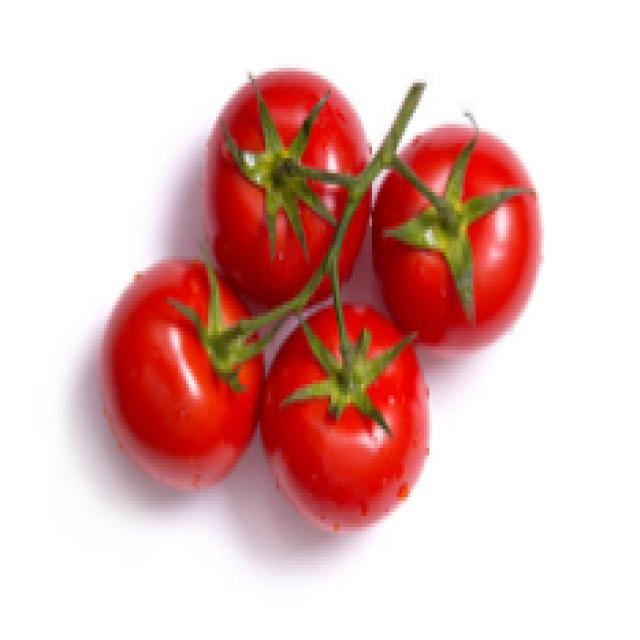Tomato: (84, 248, 265, 496), (186, 70, 400, 268), (278, 300, 436, 541), (382, 132, 542, 354)
